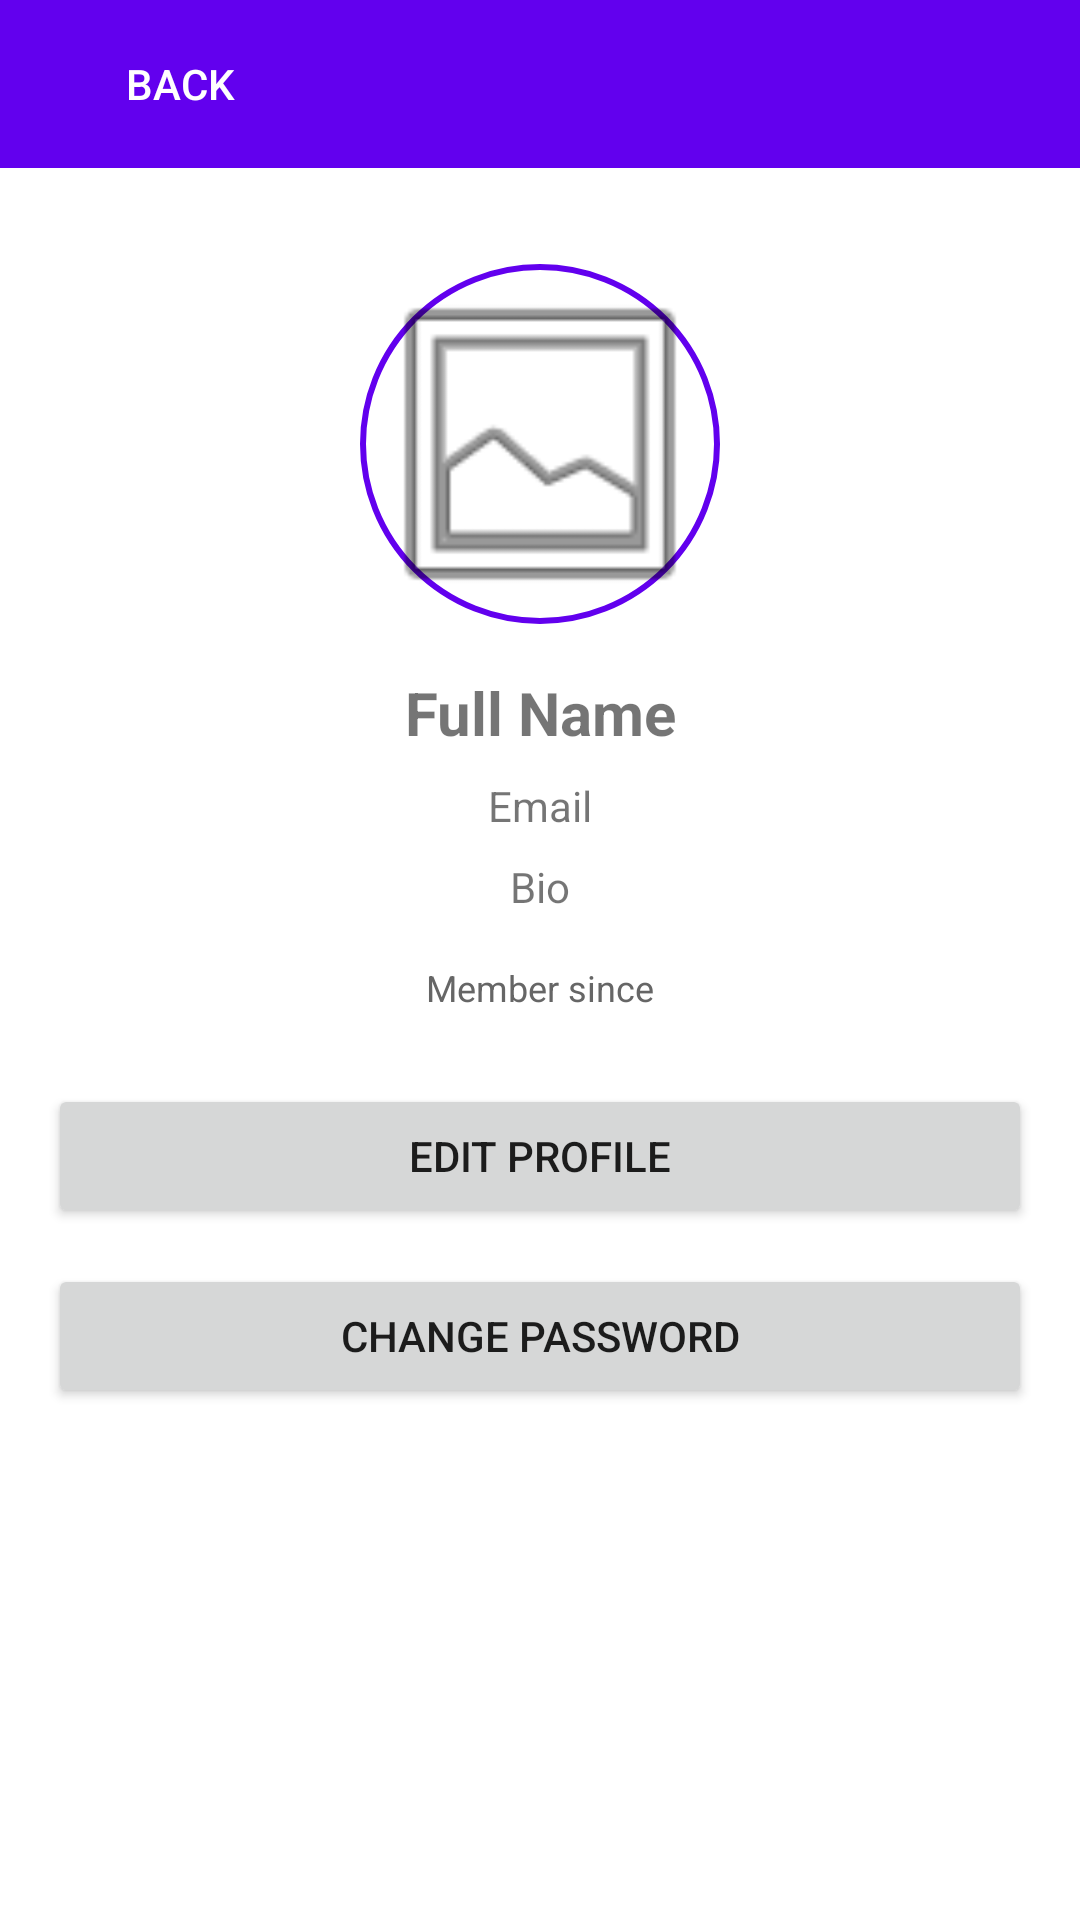

Screen size 1080px x 1920px. Icon name, then its box in pixels as (x1, y1, x2, y2):
gallery: (360, 264, 720, 624)
